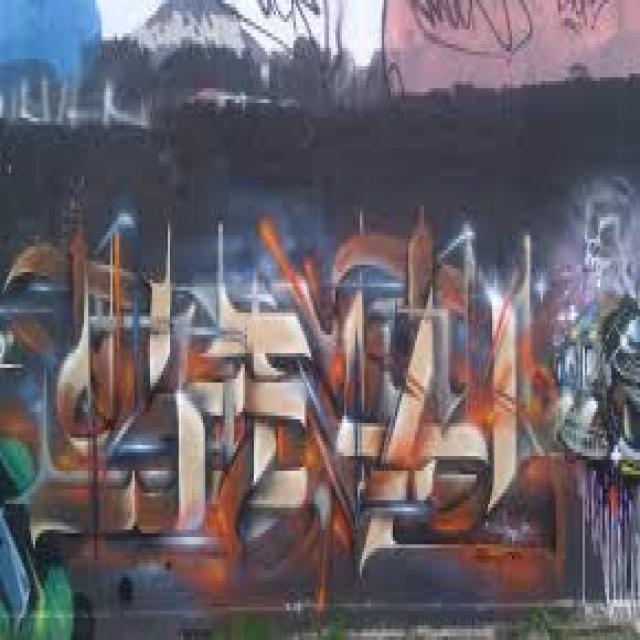-: (1, 190, 640, 640)
